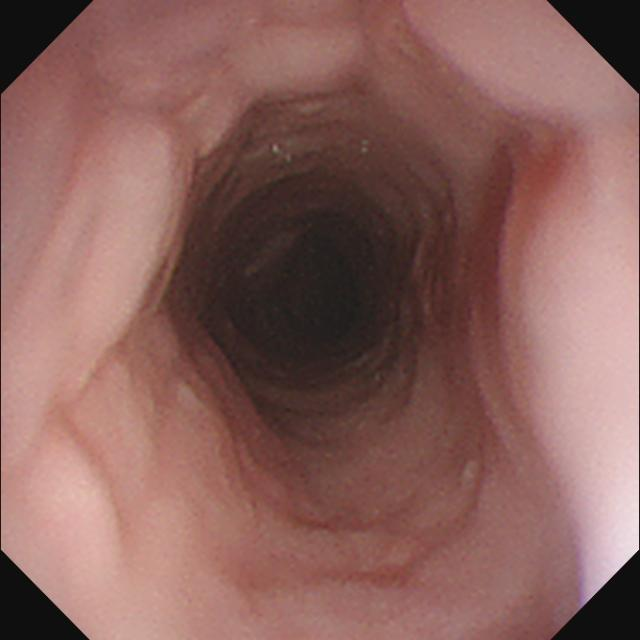E: (228, 207, 385, 363)
